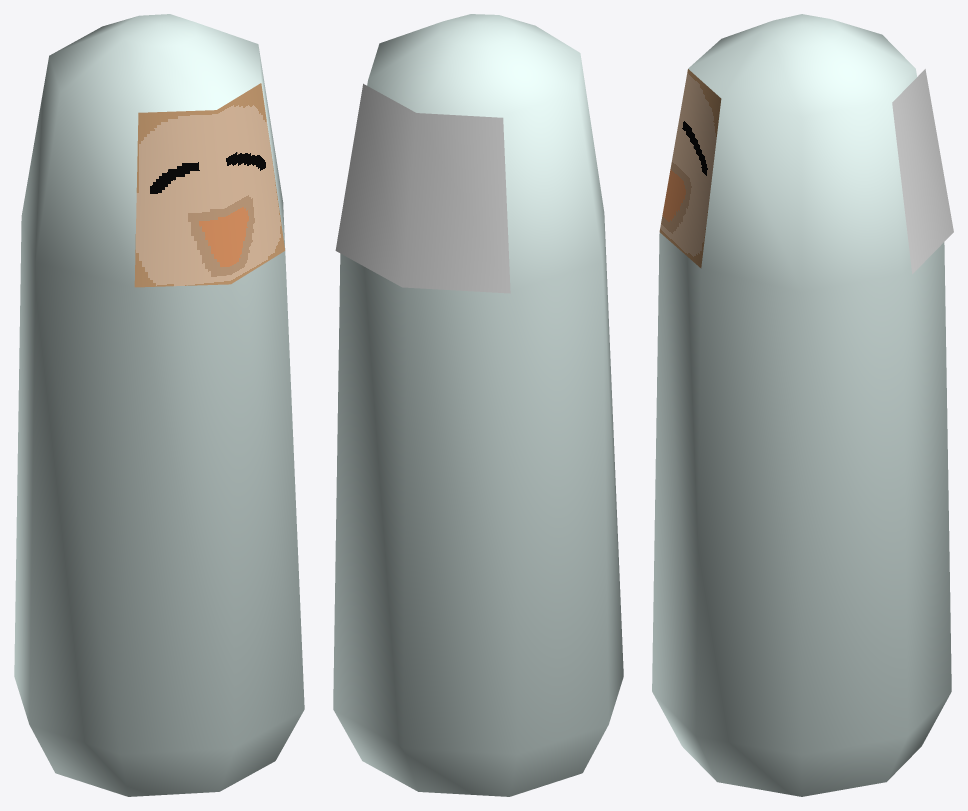
File: OTA_N_07.glb
3 views of the same model, side by side, from view 1: azimuth 30°, elevation 25°; view 2: azimuth 150°, elevation 25°; view 3: azimuth 270°, elevation 25° (orthographic).
Parts seen in each view (by area): view 1: FRAME_ROOT; view 2: FRAME_ROOT; view 3: FRAME_ROOT.
Boxes of the visible parts, x1,y1,x2,y2 form: FRAME_ROOT: (14,14,304,796); FRAME_ROOT: (333,14,623,796); FRAME_ROOT: (652,14,953,796).
Size of the model in its own units: 1.28 by 3.4 by 1.29.
3 materials, 3 textured.
